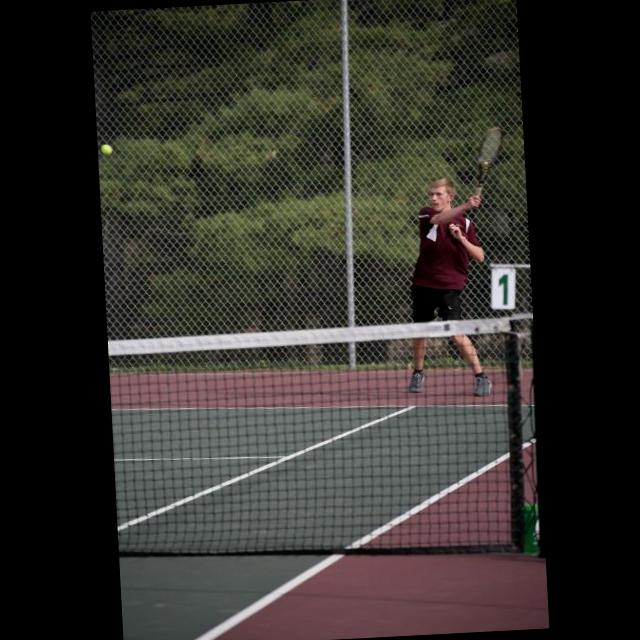Tennis Ball: (98, 144, 112, 156)
